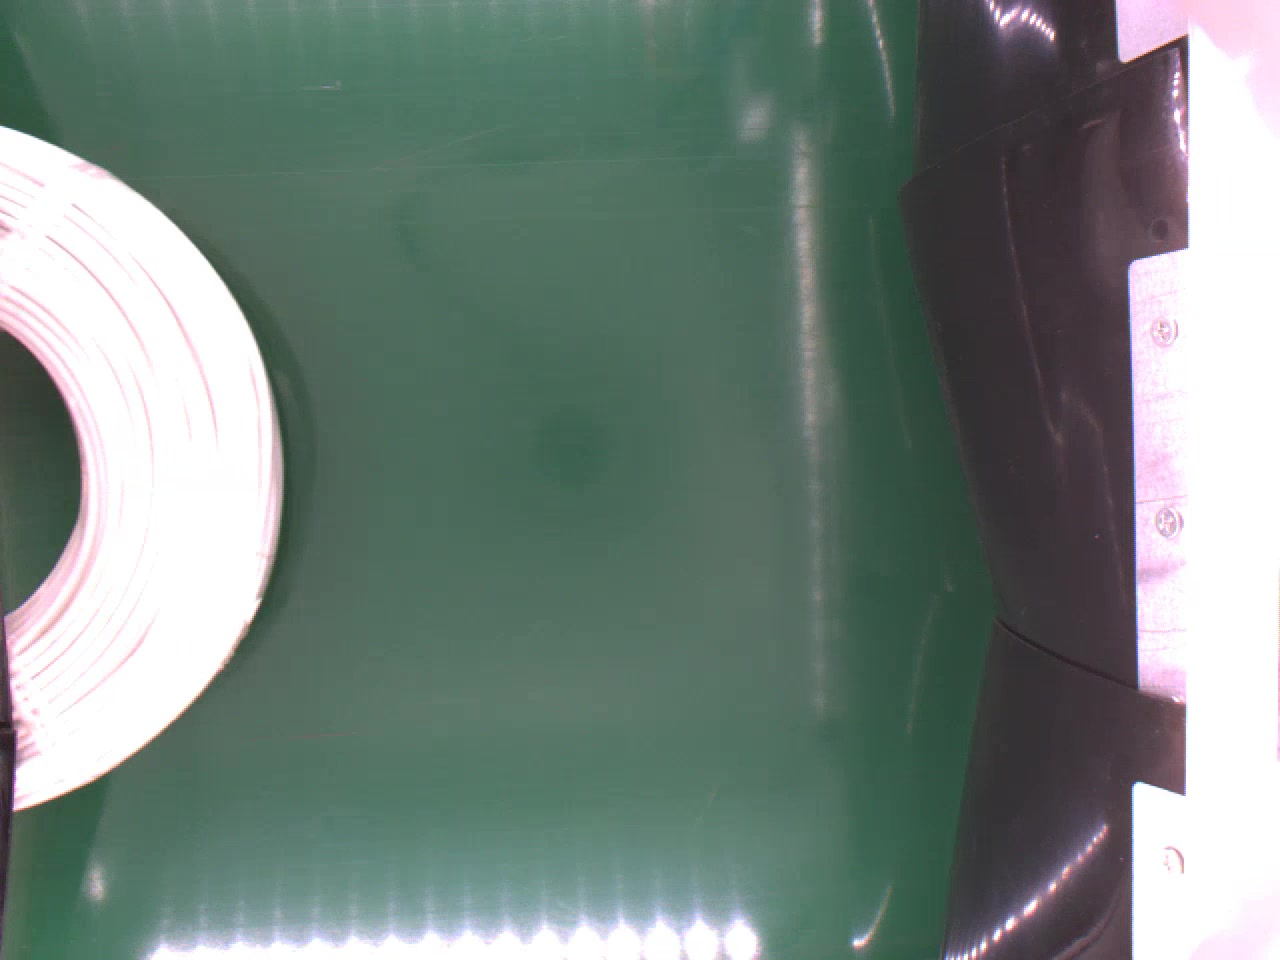white: (0, 121, 288, 804)
